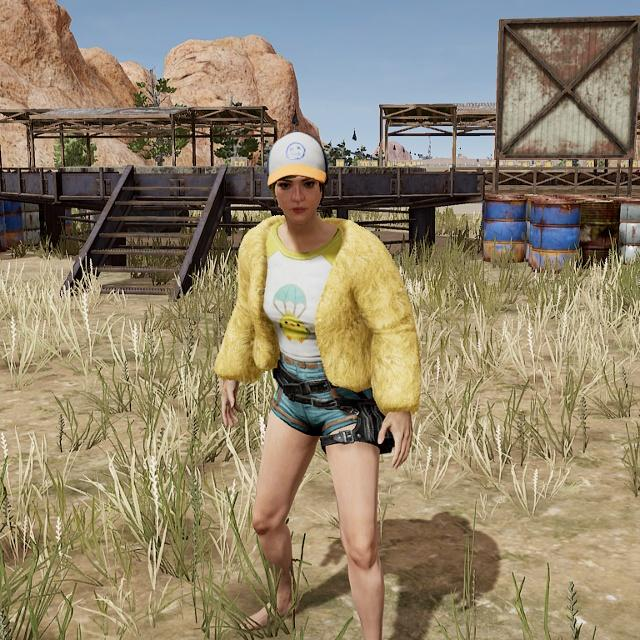head: (257, 127, 331, 228)
people: (198, 127, 434, 640)
